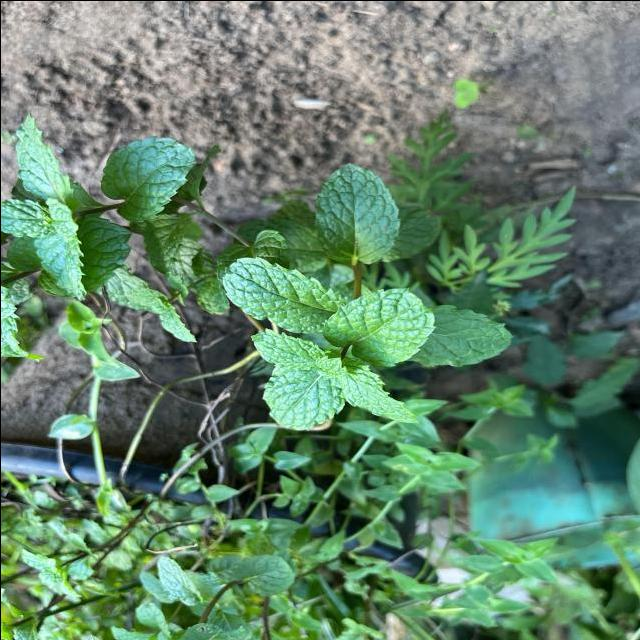Mentha spicata: (220, 254, 346, 334), (312, 161, 401, 264), (323, 286, 436, 366), (260, 366, 346, 432), (338, 360, 421, 422)
